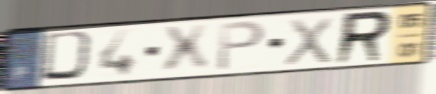4: (98, 28, 140, 79)
D: (38, 29, 100, 84)
P: (215, 19, 268, 73)
R: (332, 9, 395, 67)
X: (159, 22, 212, 77), (282, 15, 335, 68)
